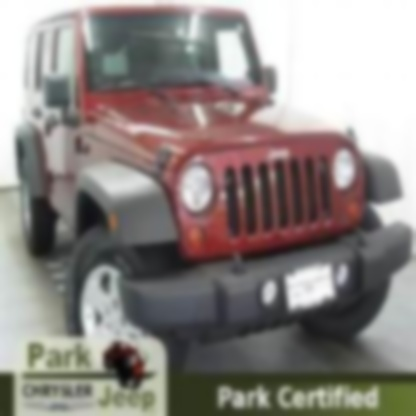Vehicle: (16, 7, 414, 383)
